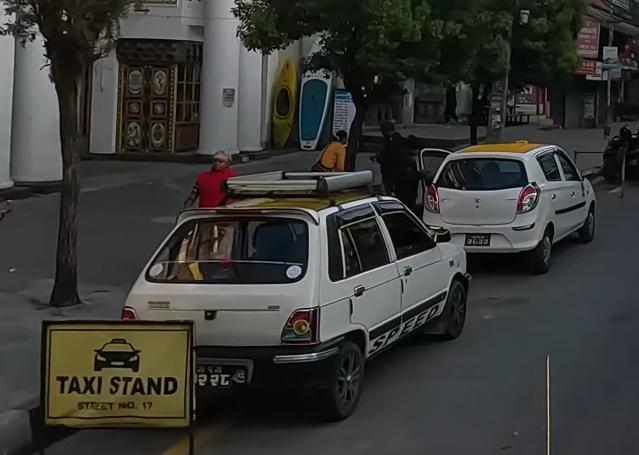taxi: (123, 158, 475, 427), (411, 132, 605, 267)
